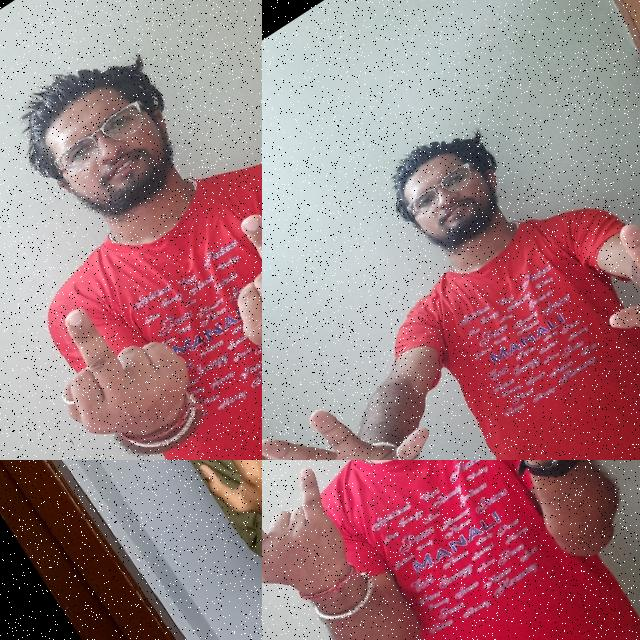Corna: (262, 460, 384, 631)
Middle Finger: (11, 261, 225, 460), (184, 179, 262, 379)
Moutza: (262, 344, 456, 460), (560, 122, 640, 374), (155, 460, 262, 550)
